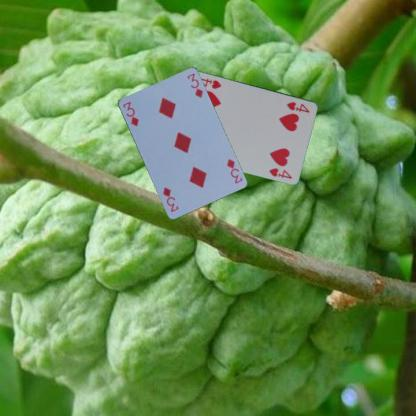3d: (120, 99, 140, 127), (224, 156, 243, 185)
4h: (284, 99, 311, 114)
